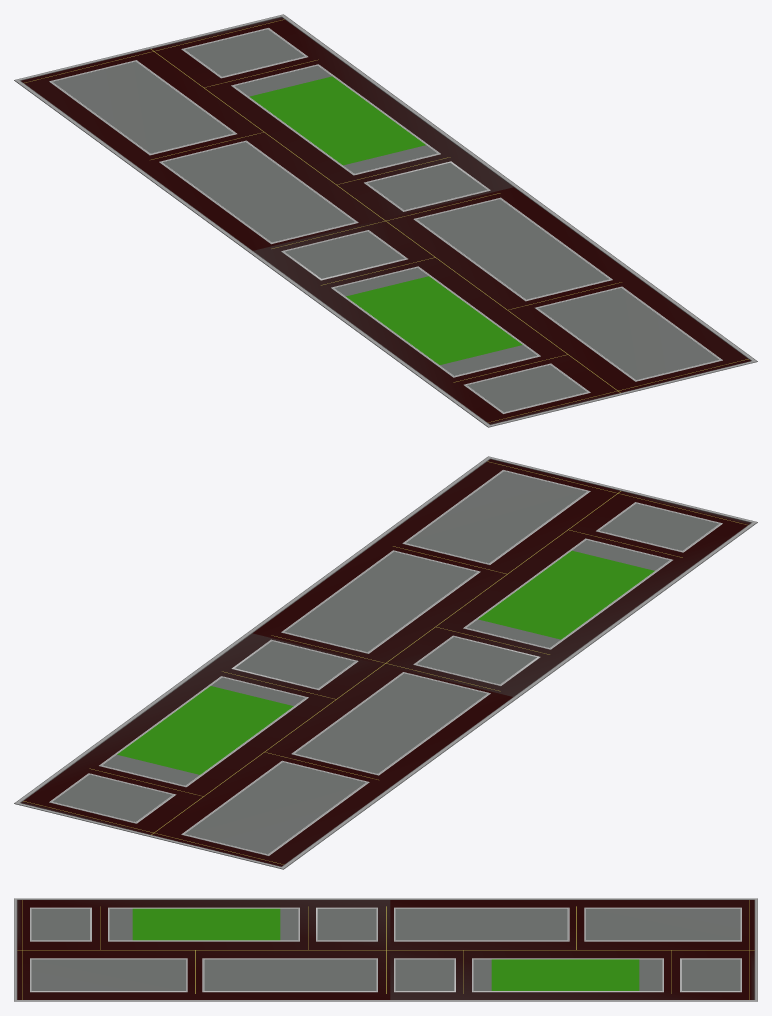
Rendered from City_Street - Longer.fbx.
3 renders of one model, top to bottom at view 1: azimuth 30°, elevation 25°; view 2: azimuth 150°, elevation 25°; view 3: azimuth 270°, elevation 25°, orthographic. The views are drawn at different scales.
Visible parts, largest first — view 1: street; view 2: street; view 3: street.
Part boxes in pixels (left/top/right/bottom): street: left=14, top=14, right=757, bottom=427; street: left=14, top=456, right=757, bottom=869; street: left=14, top=898, right=757, bottom=1001.
Size of the model in its own units: 35691 by 60.49 by 108703.
